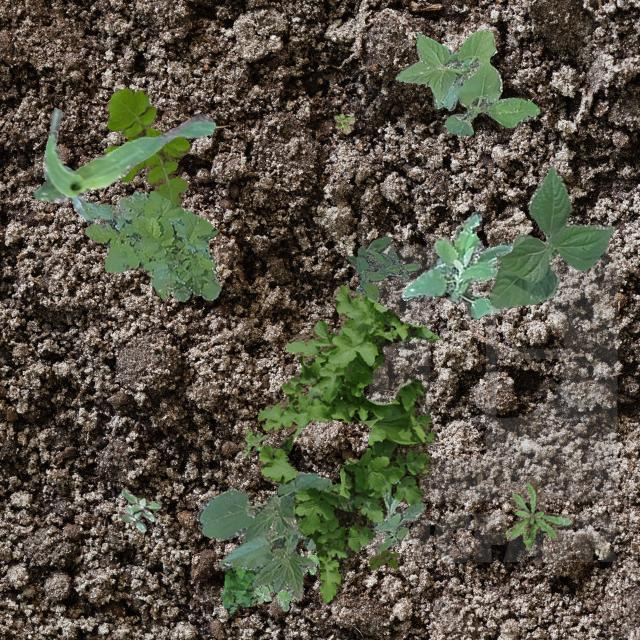crop: (32, 108, 214, 222), (488, 167, 614, 307), (196, 469, 330, 598)
weed: (256, 284, 436, 604), (80, 190, 220, 300), (394, 29, 538, 134), (399, 210, 512, 318), (104, 88, 188, 204), (358, 478, 424, 552), (504, 476, 570, 548), (346, 236, 420, 300), (252, 554, 318, 610), (219, 566, 259, 614), (120, 490, 160, 530), (242, 428, 266, 456), (368, 548, 398, 568), (332, 112, 353, 132), (324, 482, 340, 494)
